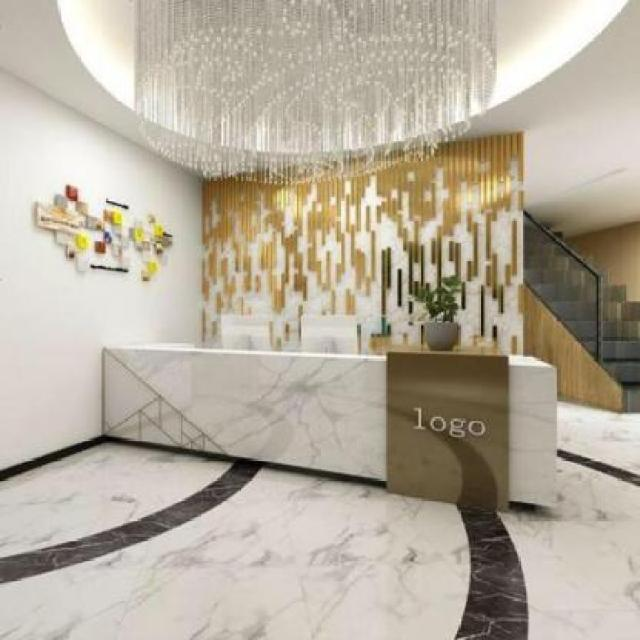frontdesk: (92, 332, 562, 527)
